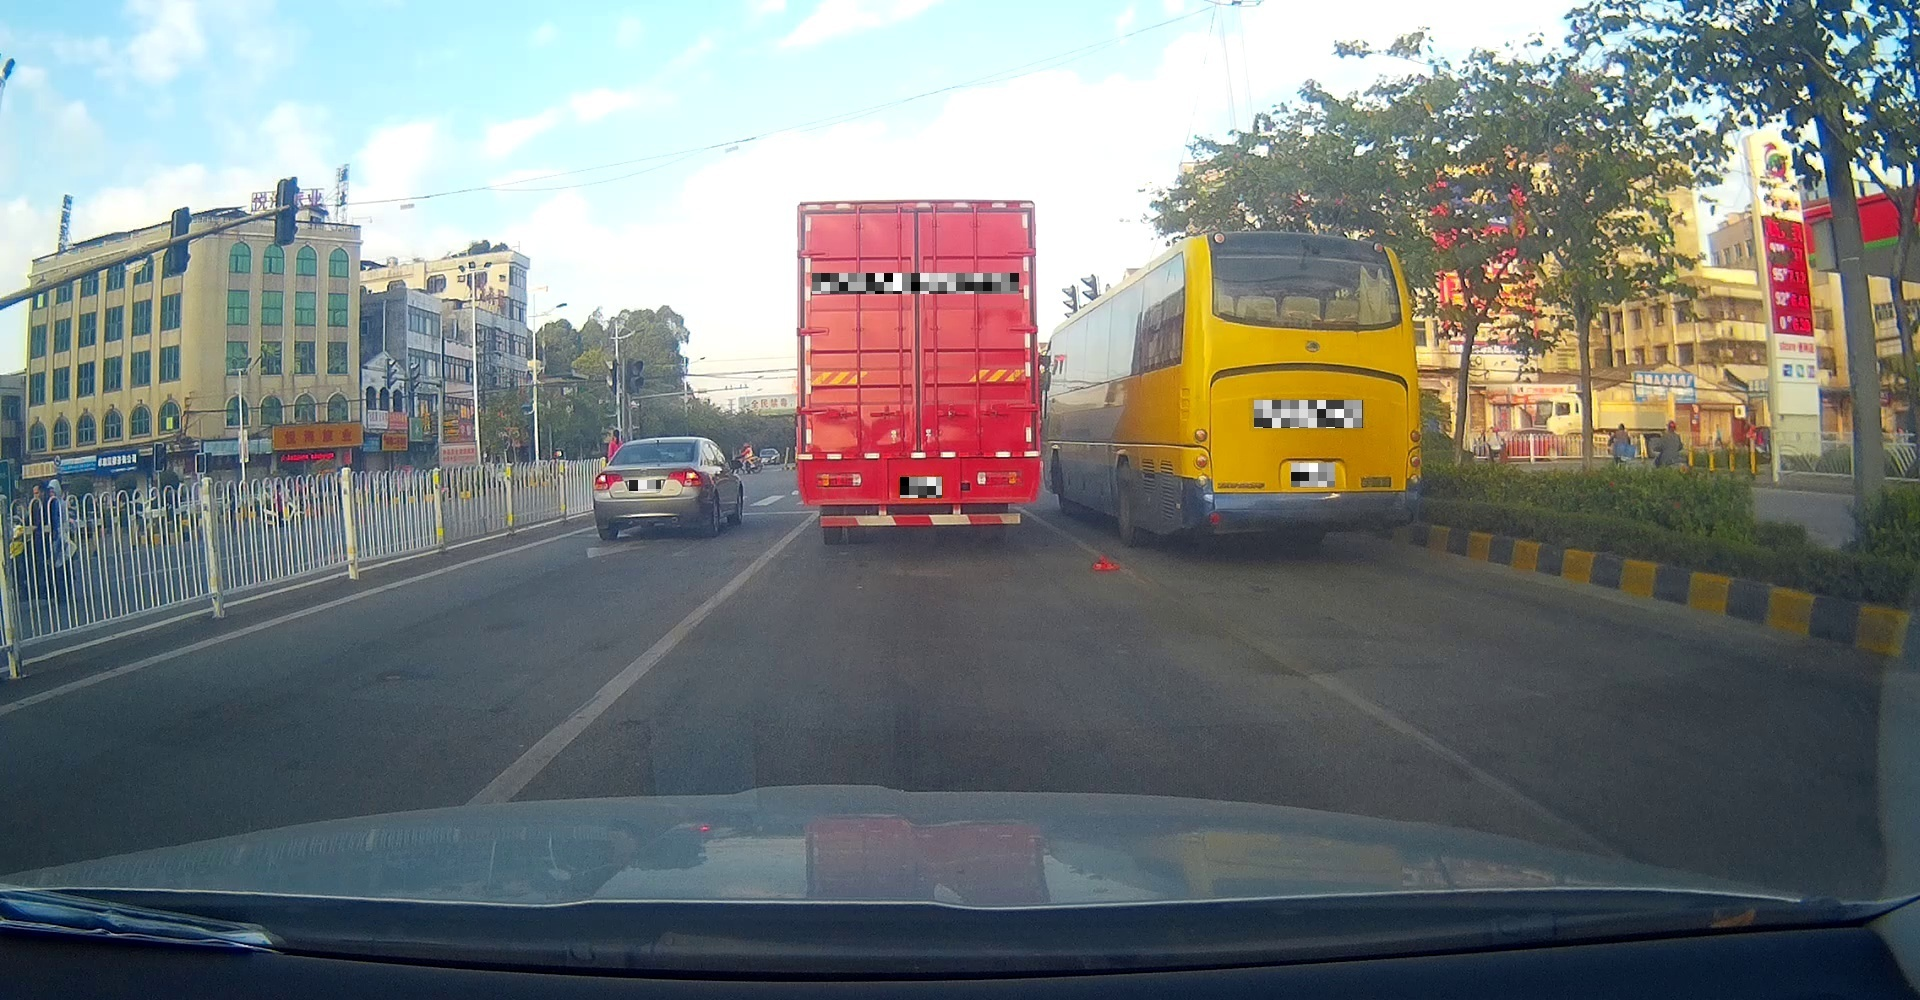L_light: (1192, 428, 1211, 491), (817, 472, 863, 487), (594, 475, 623, 490)
R_light: (1407, 429, 1422, 485), (977, 470, 1022, 486), (669, 470, 703, 489)
T_light: (1297, 313, 1345, 331), (902, 212, 932, 225), (646, 444, 669, 452)
day-brake: (592, 437, 706, 541)
day-no: (795, 199, 1043, 544), (1192, 230, 1422, 557)
plate_1: (629, 480, 662, 491)
plate_2: (811, 273, 1018, 294)
plate_3: (900, 477, 942, 497)
plate_4: (1255, 400, 1363, 428)
plate_5: (1291, 463, 1335, 487)
